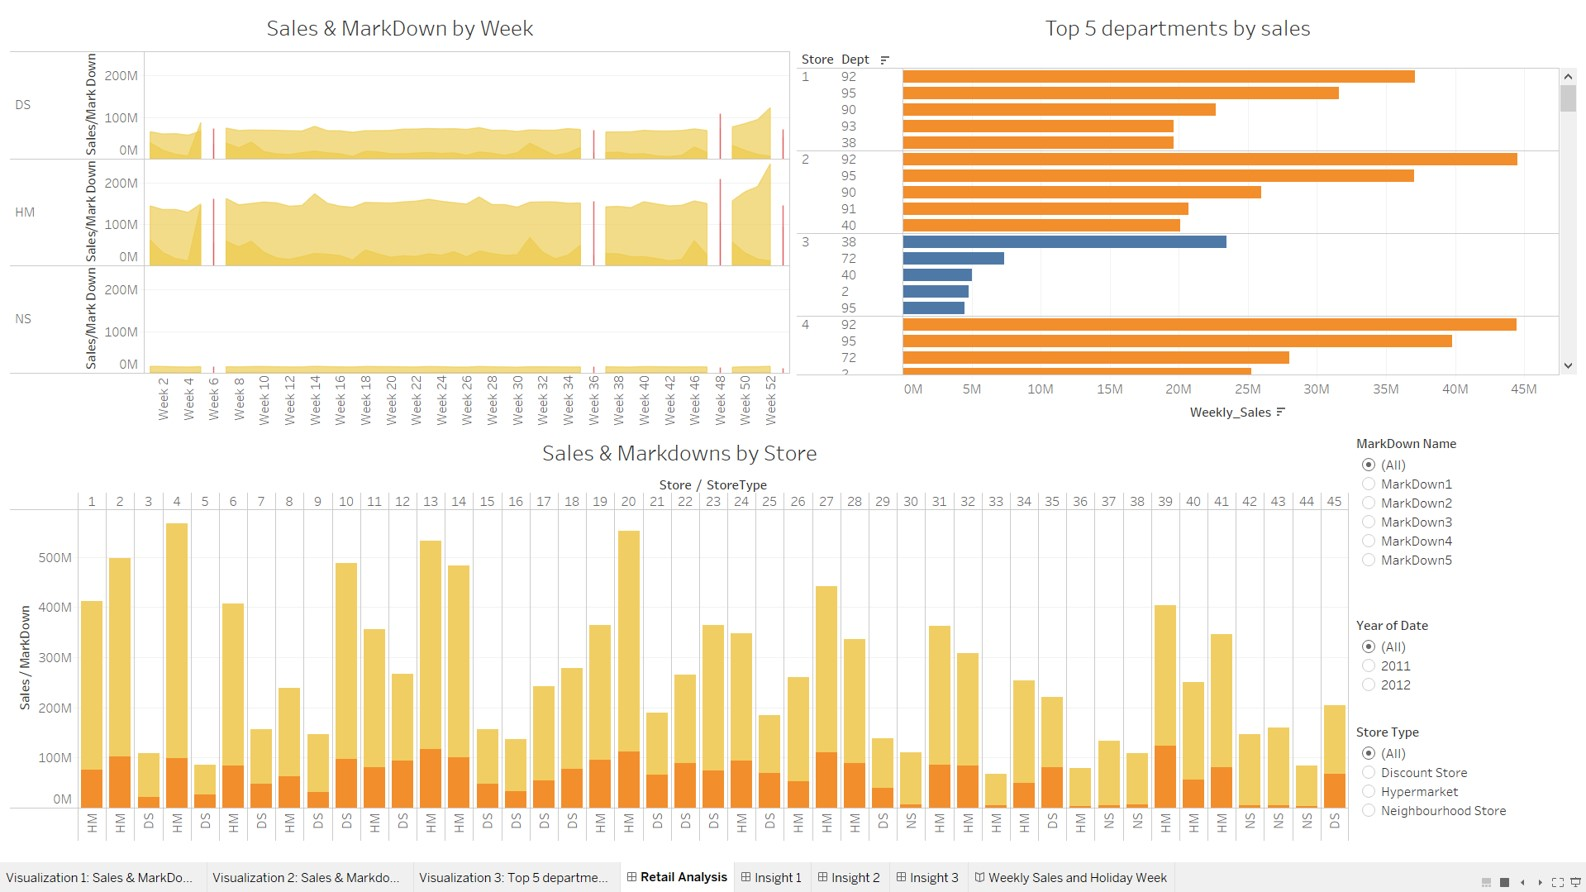

What the dashboard file says about the page in this screenshot:
{"tool":"tableau","page":{"name":"Retail Analysis","canvas":[1000,1000],"units":"permille","ordinal":3},"visuals":[{"type":"worksheet","box":[0,0,1000,1000]},{"type":"worksheet","param":"horz","box":[4.8,9.3,990.3,981.4]},{"type":"worksheet","box":[4.8,9.3,990.3,981.4]},{"type":"worksheet","title":"Visualization 1: Sales & MarkDown by Week","mark":"Area","rows":["Calculation_2032530810485538821","Weekly_Sales","Pivot Field Values"],"cols":["Date"],"box":[4.8,9.3,495.2,490.7]},{"type":"worksheet","title":"Visualization 3: Top 5 departments by sales","mark":"Automatic","rows":["Store","Dept"],"cols":["Weekly_Sales"],"box":[500,9.3,495.2,490.7]},{"type":"worksheet","title":"Visualization 2: Sales & Markdowns by Store","mark":"Bar","rows":["Weekly_Sales","Pivot Field Values"],"cols":["Store","Calculation_2032530810485538821"],"box":[4.8,500,847.4,490.7]},{"type":"worksheet","title":"Visualization 2: Sales & Markdowns by Store","mark":"Bar","rows":["Weekly_Sales","Pivot Field Values"],"cols":["Store","Calculation_2032530810485538821"],"param":"[federated.1tr0k3f1klmq0y14er2e90jyjq3b].[none:Pivot Field Names:nk]","box":[852.2,500,142.9,210.3]},{"type":"worksheet","title":"Visualization 2: Sales & Markdowns by Store","mark":"Bar","rows":["Weekly_Sales","Pivot Field Values"],"cols":["Store","Calculation_2032530810485538821"],"param":"[federated.1tr0k3f1klmq0y14er2e90jyjq3b].[yr:Date:ok]","box":[852.2,710.3,142.9,123.9]},{"type":"worksheet","title":"Visualization 1: Sales & MarkDown by Week","mark":"Area","rows":["Calculation_2032530810485538821","Weekly_Sales","Pivot Field Values"],"cols":["Date"],"param":"[federated.1tr0k3f1klmq0y14er2e90jyjq3b].[none:Calculation_2032530810355855360:n","box":[852.2,834.2,142.9,156.5]}]}

Visuals, with their boxes on the dashboard's canvas, which has no fixed pixel size, in thousandths of its width and height (x1, y1, x2, y2). These are canvas units, not pixel positions in the 1586x892 screenshot, which may show the page scaled, cropped or inside an application window:
worksheet: box(0, 0, 1000, 1000)
worksheet: box(5, 9, 995, 991)
worksheet: box(5, 9, 995, 991)
"Visualization 1: Sales & MarkDown by Week" worksheet (Area marks): box(5, 9, 500, 500)
"Visualization 3: Top 5 departments by sales" worksheet: box(500, 9, 995, 500)
"Visualization 2: Sales & Markdowns by Store" worksheet (Bar marks): box(5, 500, 852, 991)
"Visualization 2: Sales & Markdowns by Store" worksheet (Bar marks): box(852, 500, 995, 710)
"Visualization 2: Sales & Markdowns by Store" worksheet (Bar marks): box(852, 710, 995, 834)
"Visualization 1: Sales & MarkDown by Week" worksheet (Area marks): box(852, 834, 995, 991)
